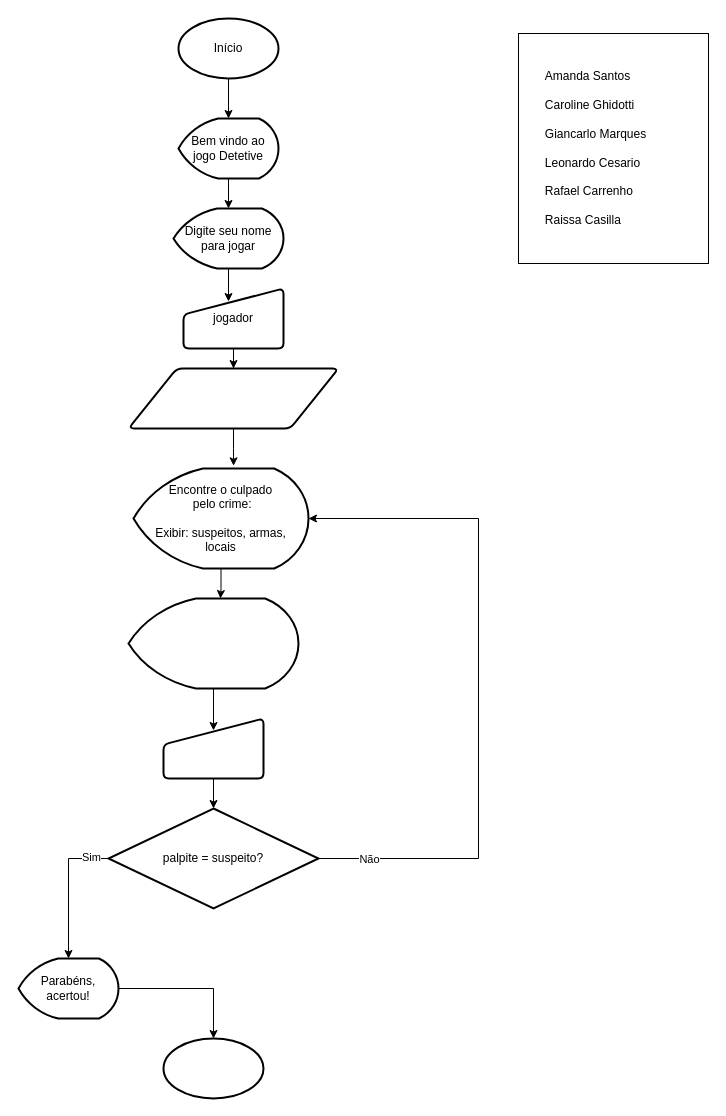
Some shapes in this 726 by 1116 pixel diagram are drawn without their labels. The box of each missing label's shape, as (x1, y1, x2, y2) in pixels:
culpado, suspeitos, armas locais: (127, 367, 339, 429)
Dê seu palpite: Quem matou? Com qual arma? Onde?: (127, 597, 299, 689)
Fim: (162, 1037, 264, 1099)
palpite: (162, 717, 264, 779)
